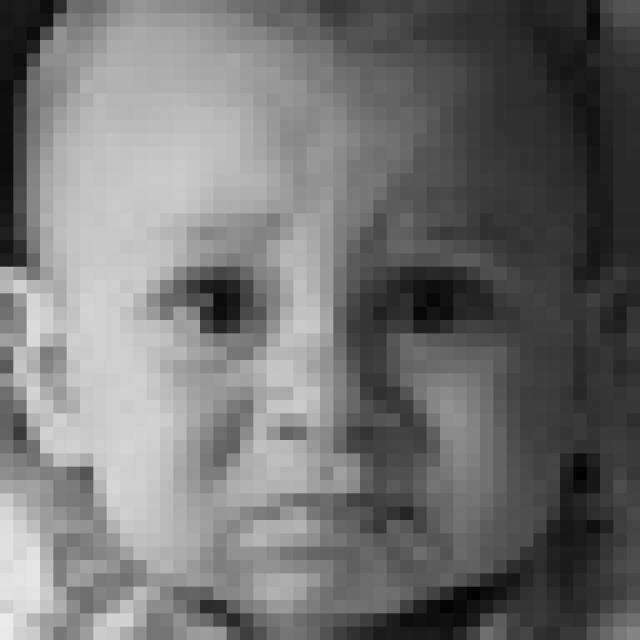sad: (130, 175, 534, 581)
